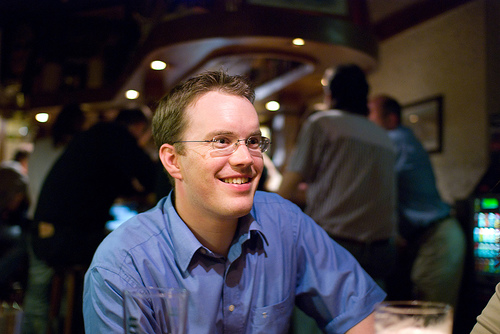without_mask: (164, 94, 269, 217)
